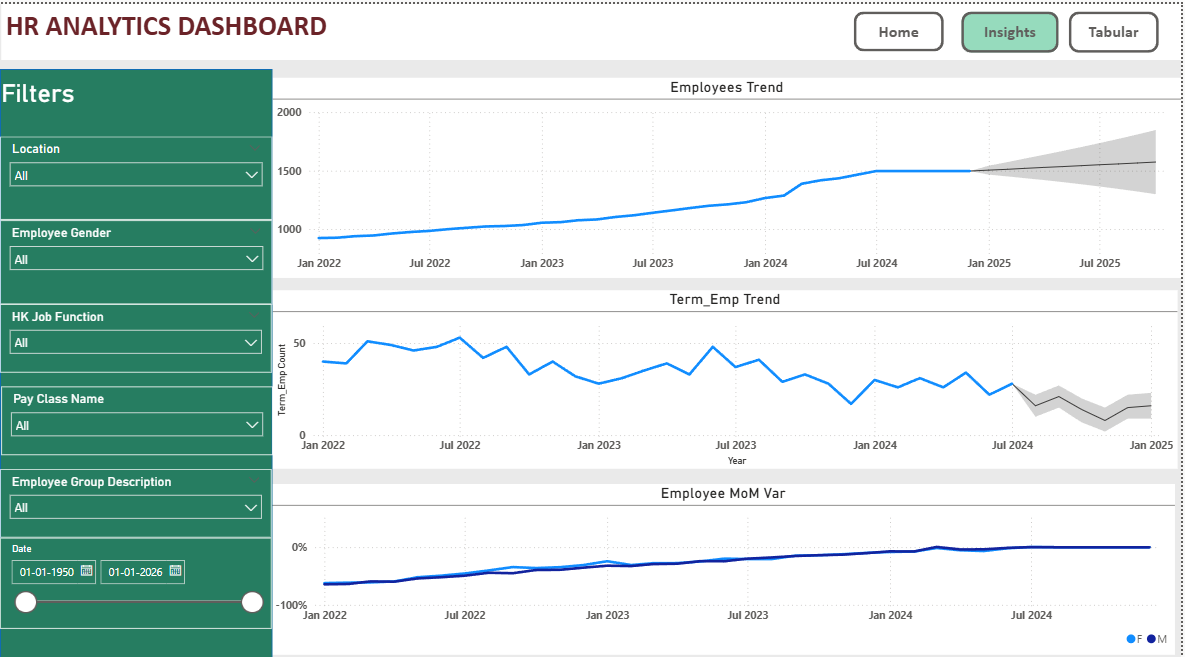

The page's visual inventory and layout, read from the dashboard file:
{"tool":"powerbi","page":{"name":"Insights","canvas":[1350,750],"ordinal":5},"visuals":[{"type":"textbox","box":[1.4,0,1348.6,64.3],"z":0},{"type":"lineChart","title":"Employees Trend","fields":{"Y":["Employee.Emp Count"],"Category":["Date Dim.Date.Variation.Date Hierarchy.Year","Date Dim.Date.Variation.Date Hierarchy.Month"]},"box":[311.4,84.3,1038.6,228.6],"z":1000},{"type":"lineChart","title":"Term_Emp Trend","fields":{"Y":["Employee.Term_Emp Count"],"Category":["Employee.Termination Date.Variation.Date Hierarchy.Year","Employee.Termination Date.Variation.Date Hierarchy.Month"]},"box":[311.4,327.1,1034.3,204.3],"z":2000},{"type":"lineChart","title":"Employee MoM Var","fields":{"Y":["Employee.EmpCount MoM % Var"],"Series":["Employee.Employee Gender"],"Category":["Date Dim.Date.Variation.Date Hierarchy.Year","Date Dim.Date.Variation.Date Hierarchy.Quarter","Date Dim.Date.Variation.Date Hierarchy.Month","Date Dim.Date.Variation.Date Hierarchy.Day"]},"box":[310.6,548.5,1033,194.9],"z":3000},{"type":"shape","box":[0,74.3,311.4,675.7],"z":4000},{"type":"slicer","fields":{"Values":["Employee.Location"]},"box":[0,151.9,310.8,95.5],"z":5000},{"type":"slicer","fields":{"Values":["Employee.Employee Gender"]},"box":[0,247.6,311.4,95.7],"z":6000},{"type":"slicer","fields":{"Values":["Employee.HK Job Function"]},"box":[0,343.3,310,78.6],"z":7000},{"type":"slicer","fields":{"Values":["Employee.Pay Class Name"]},"box":[1.4,437.6,310,78.6],"z":8000},{"type":"slicer","fields":{"Values":["Employee.Employee Group Description"]},"box":[0,531.9,310,78.6],"z":9000},{"type":"shape","title":"Filters","box":[1.4,84.3,168.6,45.7],"z":10000},{"type":"slicer","fields":{"Values":["Date Dim.Date"]},"box":[0,610,310,104.3],"z":11000},{"type":"actionButton","title":"HOME","box":[975.7,8.6,102.9,45.7],"z":12000},{"type":"actionButton","title":"Insights","box":[1098.6,8.6,111.4,47.1],"z":13000},{"type":"actionButton","title":"Tabular","box":[1221.4,8.6,102.9,47.1],"z":14000}]}

Visuals, with their boxes in screenshot pixels (x1, y1, x2, y2), scaled from the page's 1350x750 canvas onto the 1185x657 screenshot:
textbox: rect(1, 0, 1184, 56)
"Employees Trend" lineChart: rect(273, 74, 1184, 274)
"Term_Emp Trend" lineChart: rect(273, 287, 1181, 466)
"Employee MoM Var" lineChart: rect(273, 480, 1179, 651)
shape: rect(0, 65, 273, 656)
slicer - Employee.Location: rect(0, 133, 273, 217)
slicer - Employee.Employee Gender: rect(0, 217, 273, 301)
slicer - Employee.HK Job Function: rect(0, 301, 272, 370)
slicer - Employee.Pay Class Name: rect(1, 383, 273, 452)
slicer - Employee.Employee Group Description: rect(0, 466, 272, 535)
"Filters" shape: rect(1, 74, 149, 114)
slicer - Date Dim.Date: rect(0, 534, 272, 626)
"HOME" actionButton: rect(856, 8, 947, 48)
"Insights" actionButton: rect(964, 8, 1062, 49)
"Tabular" actionButton: rect(1072, 8, 1162, 49)
